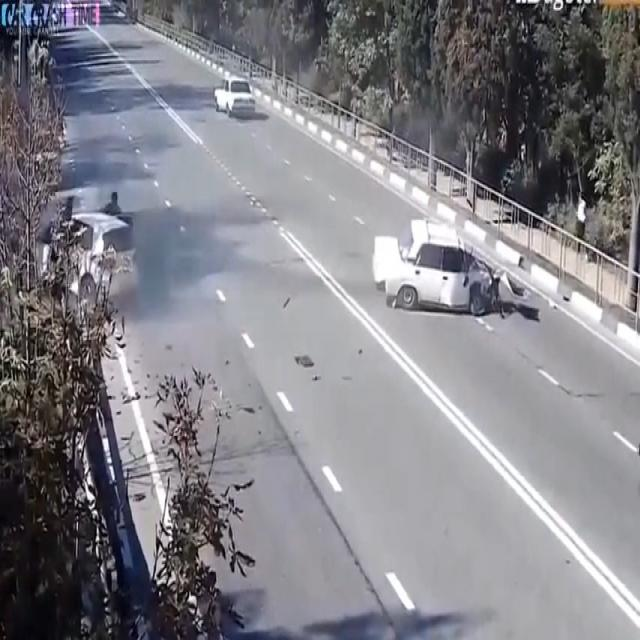Accident: (347, 174, 500, 327), (38, 178, 138, 306)
